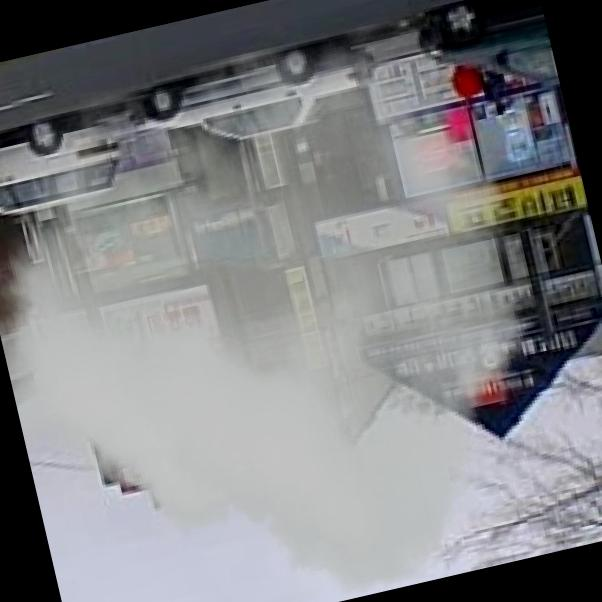smoke: (0, 4, 584, 602)
